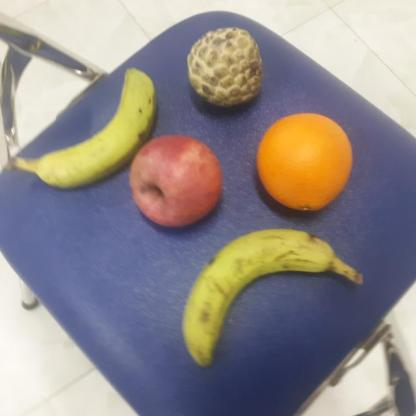annona: (186, 23, 270, 109)
apple: (124, 132, 225, 228)
banana: (180, 222, 337, 370), (29, 62, 160, 190)
orange: (251, 111, 356, 213)
